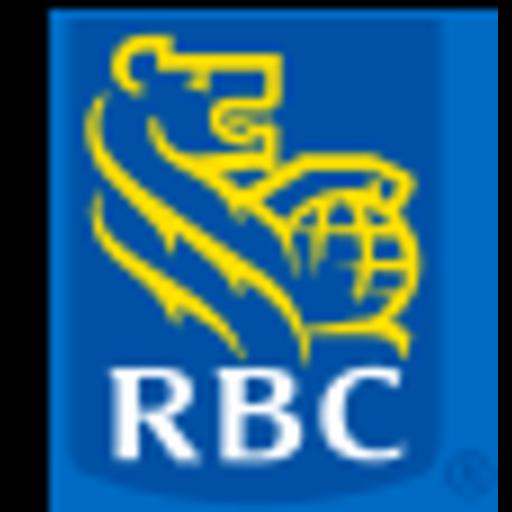RBC Royal Bank: (13, 0, 498, 512)
